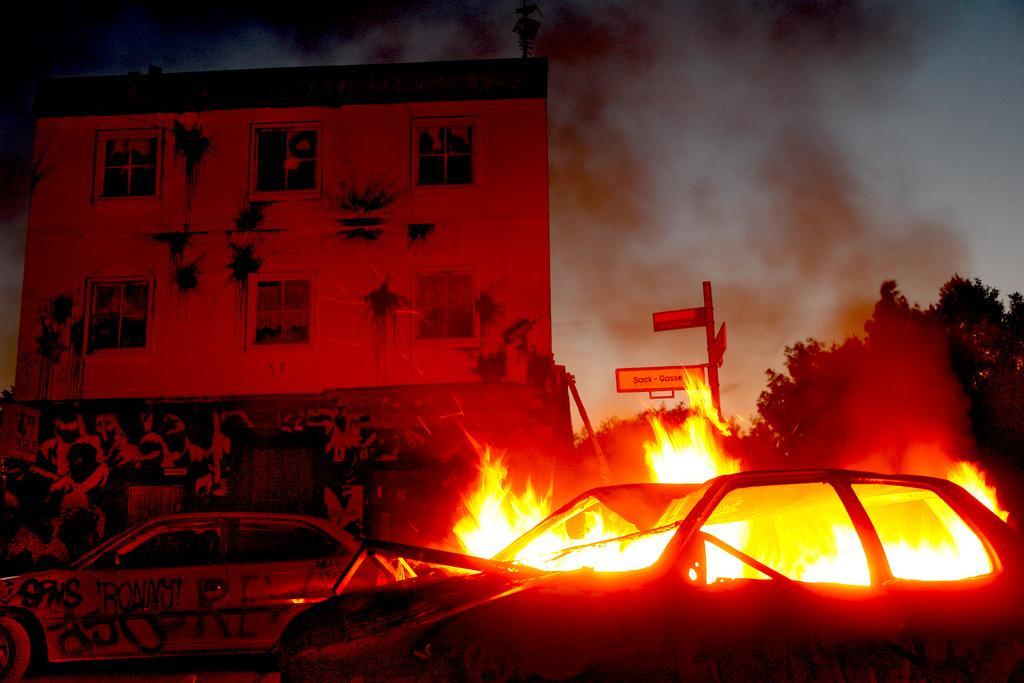fire: (485, 490, 970, 578), (647, 420, 718, 478)
